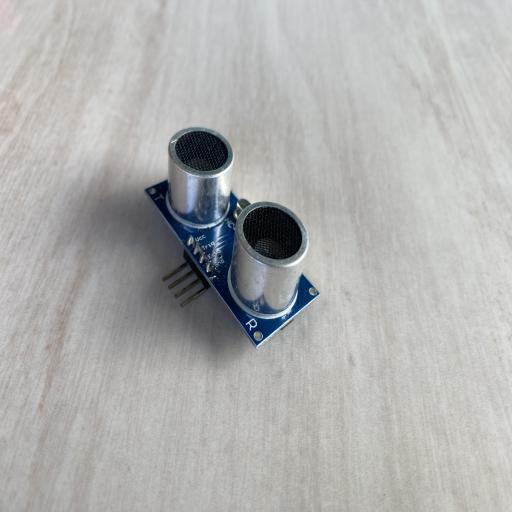Ultrasonic Sensor: (144, 124, 320, 350)
